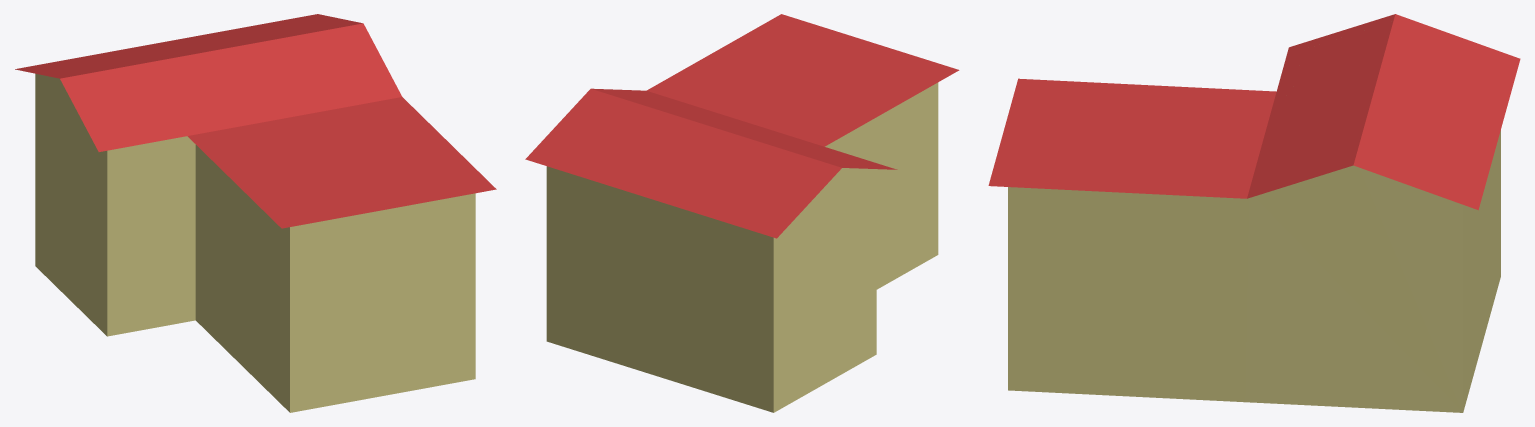
3 renders of one model, left to right at view 1: azimuth 30°, elevation 25°; view 2: azimuth 150°, elevation 25°; view 3: azimuth 270°, elevation 25°, orthographic. The views are drawn at different scales.
Bounding box in the file's own units: 11.01 × 15.2 × 7.86.
